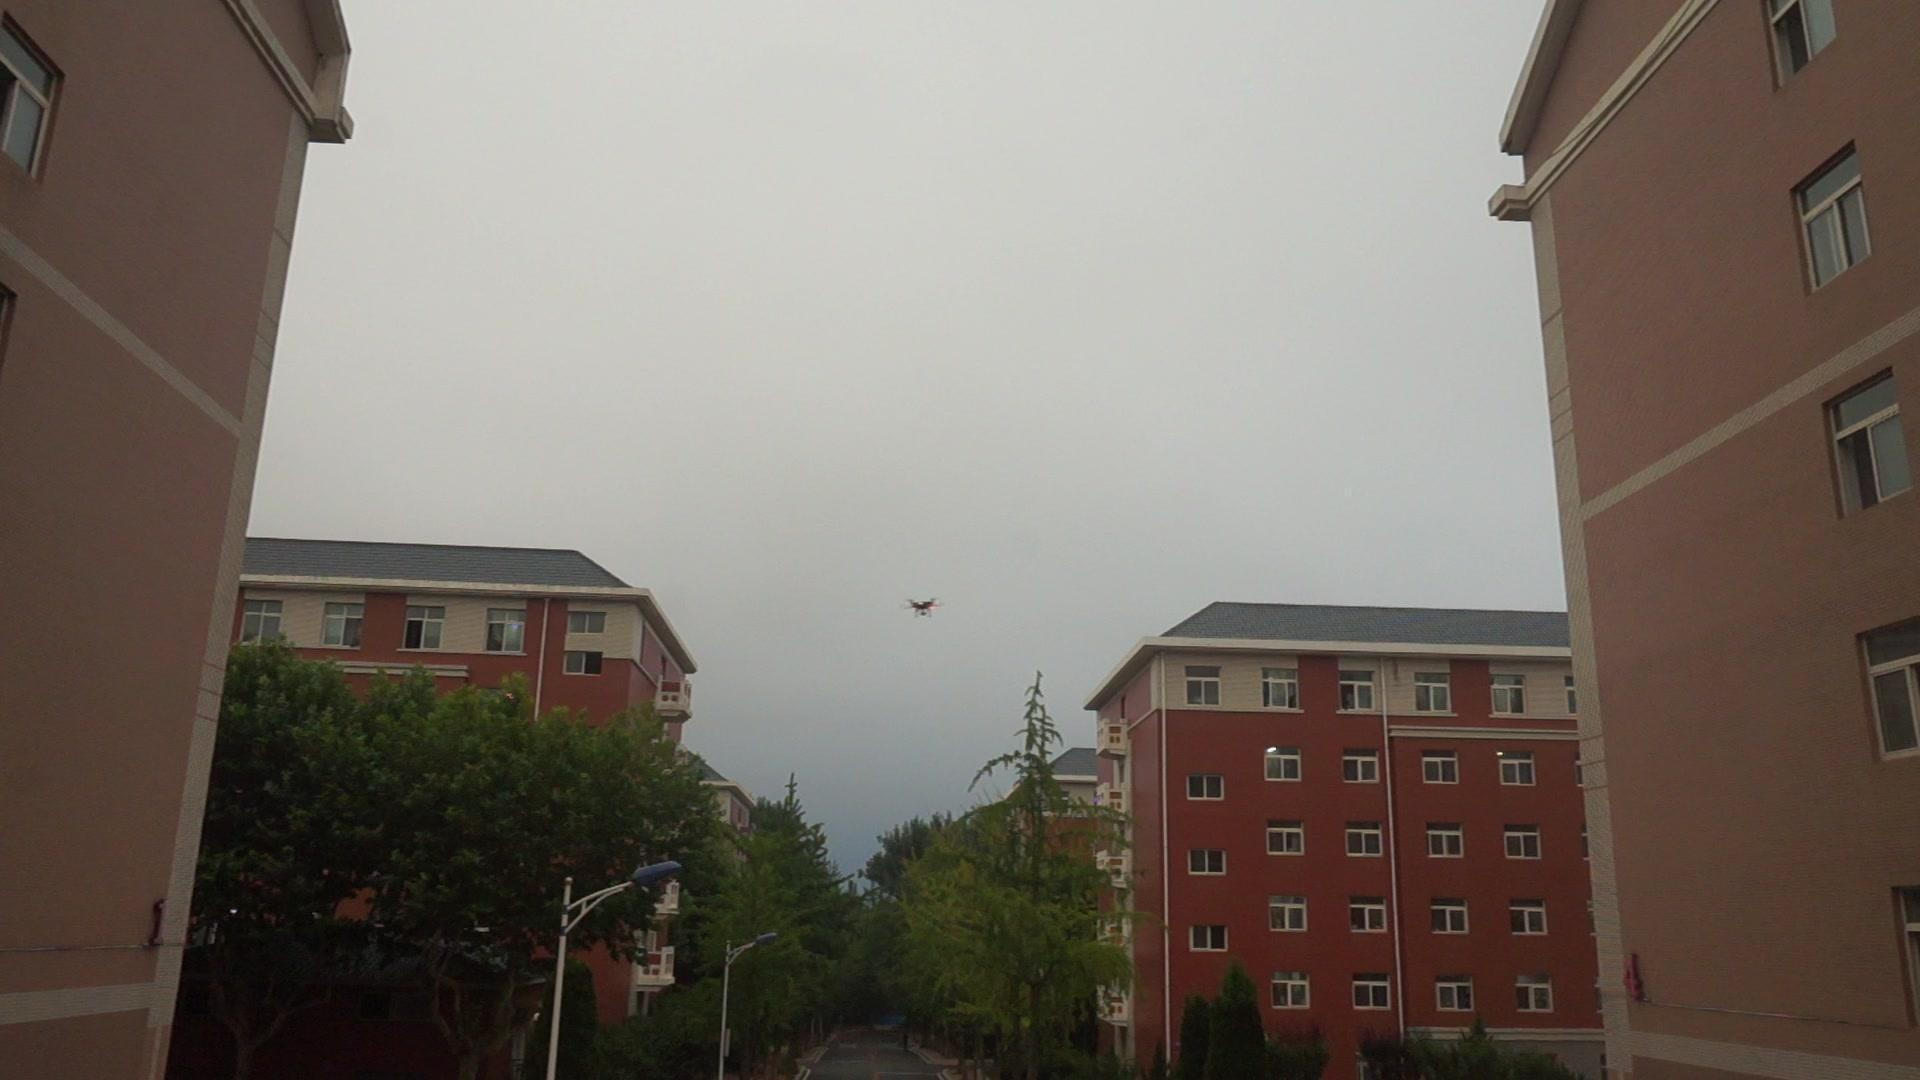UAV: (905, 599, 940, 618)
